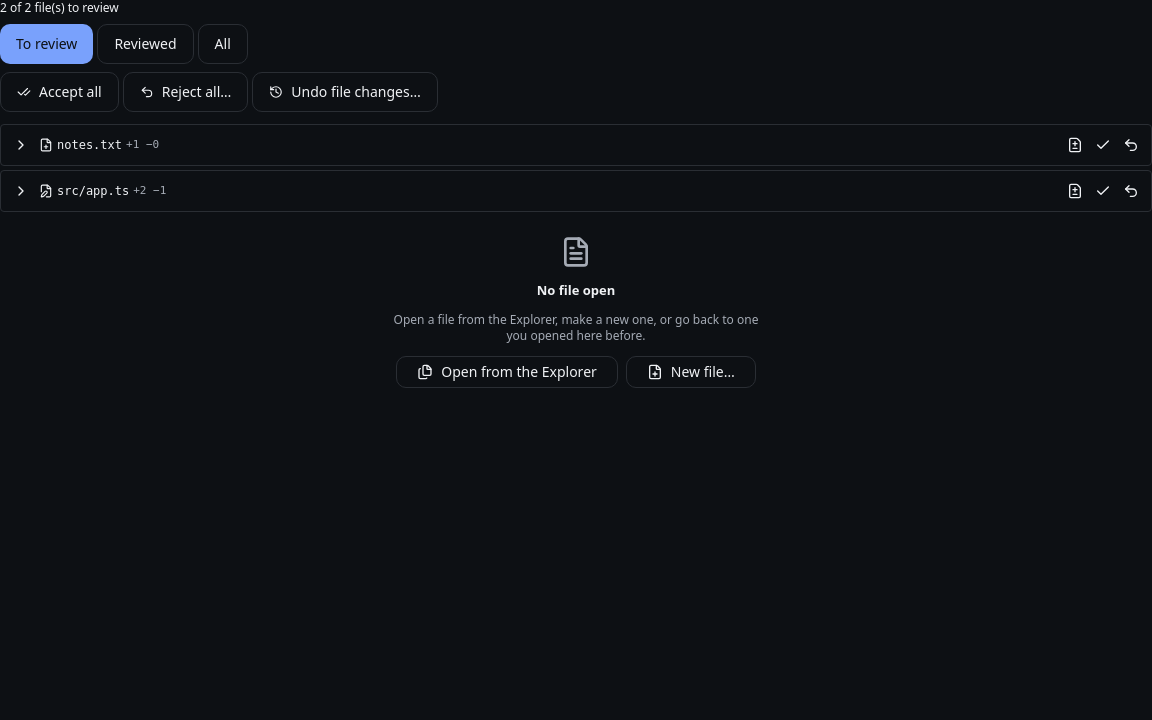
the changes of a session › opens the undo of the session from the changes, as the menu does — plan 09, B-17
The width and height of the screenshot is (1152, 720).
Click the button "Undo file changes…" at x=345, y=92, box [252,72,438,112]
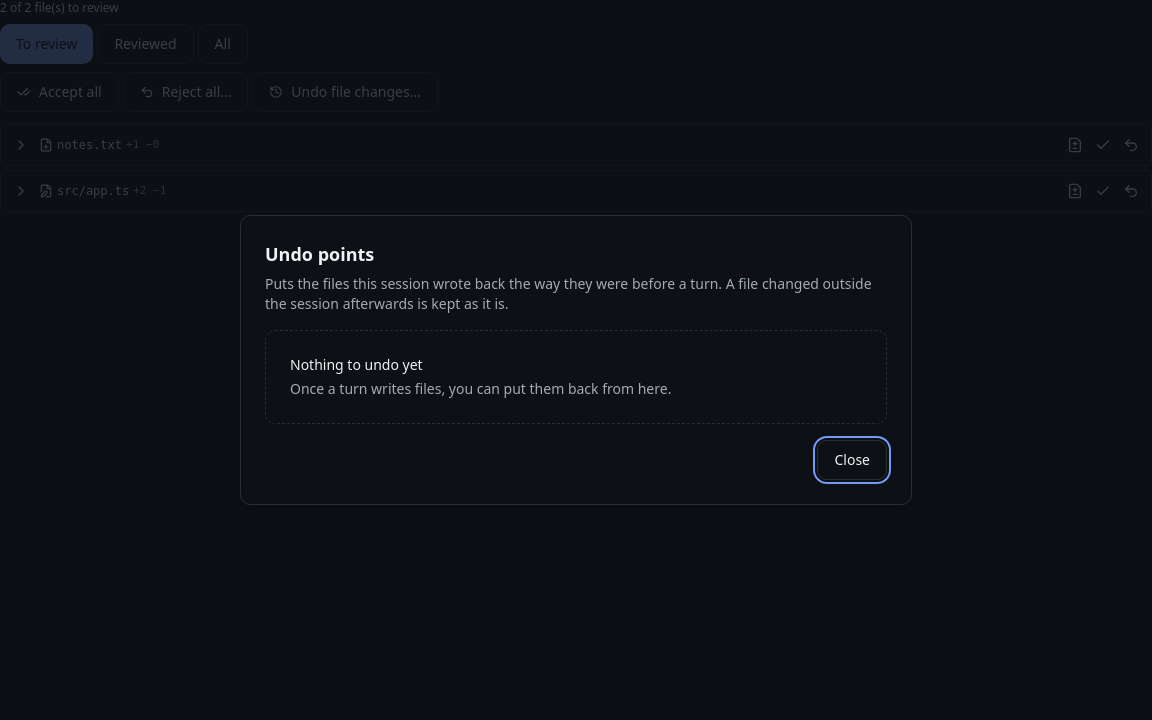
Result: the dialog "Undo points" is shown at [240,215,912,505]
Click the button "Close" at x=852, y=460, box [818,440,887,480]
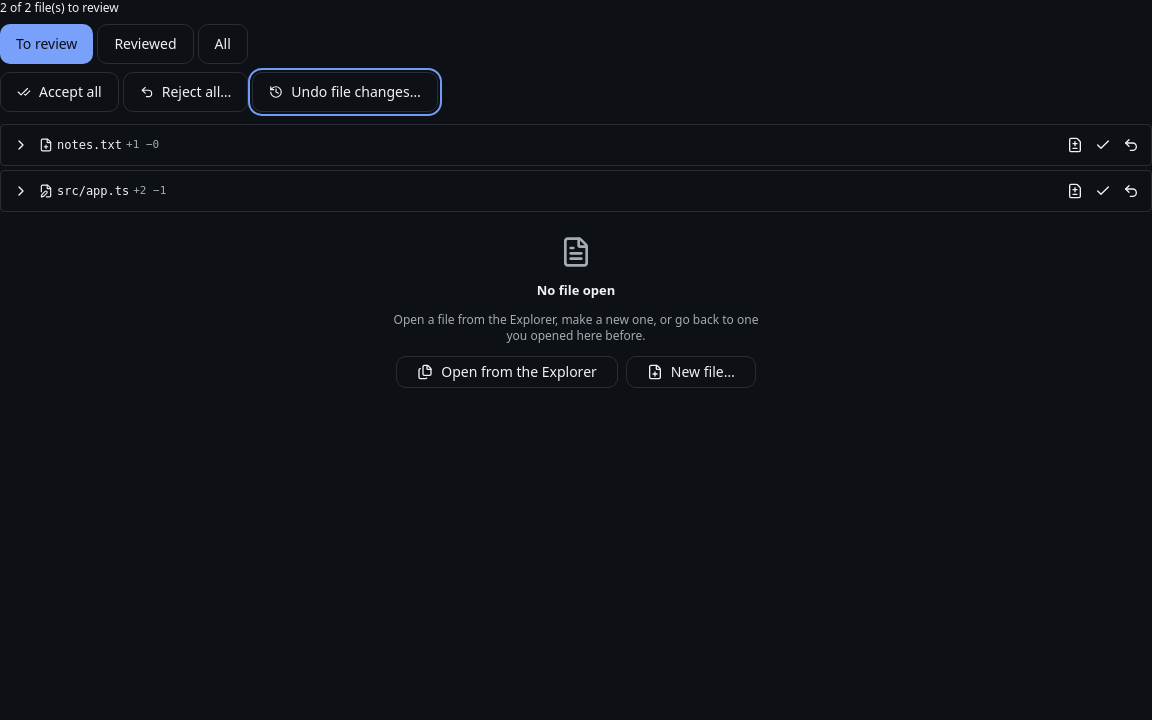
Result: the dialog is gone
